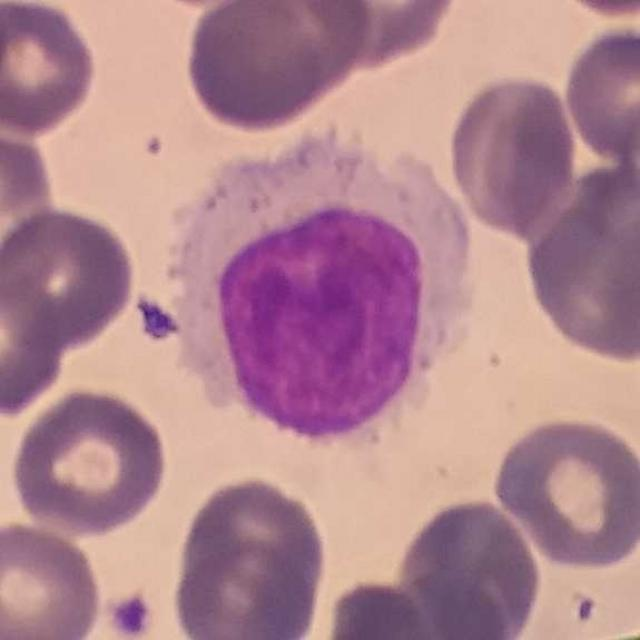Platelets: (103, 589, 156, 640), (134, 294, 182, 345)
RBC: (203, 192, 444, 452), (167, 471, 333, 640), (179, 0, 375, 134), (8, 384, 171, 539), (487, 410, 640, 572), (444, 69, 582, 239), (394, 493, 545, 639), (520, 184, 640, 366), (0, 200, 140, 352), (0, 0, 101, 138), (331, 570, 518, 640), (0, 517, 105, 640), (301, 0, 463, 72), (0, 256, 70, 422), (560, 22, 640, 162), (0, 118, 59, 288), (595, 197, 640, 363), (542, 0, 640, 21), (557, 626, 639, 640)
